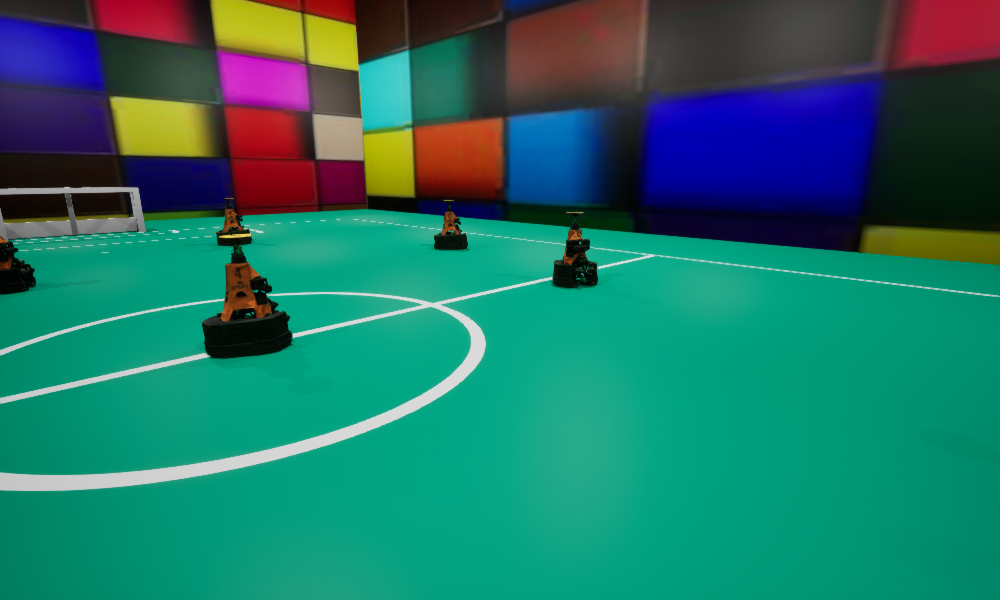0 orange robot TechUnited: (202, 234, 291, 358), (553, 212, 597, 287), (0, 236, 35, 294), (216, 198, 251, 245), (434, 200, 467, 249)
